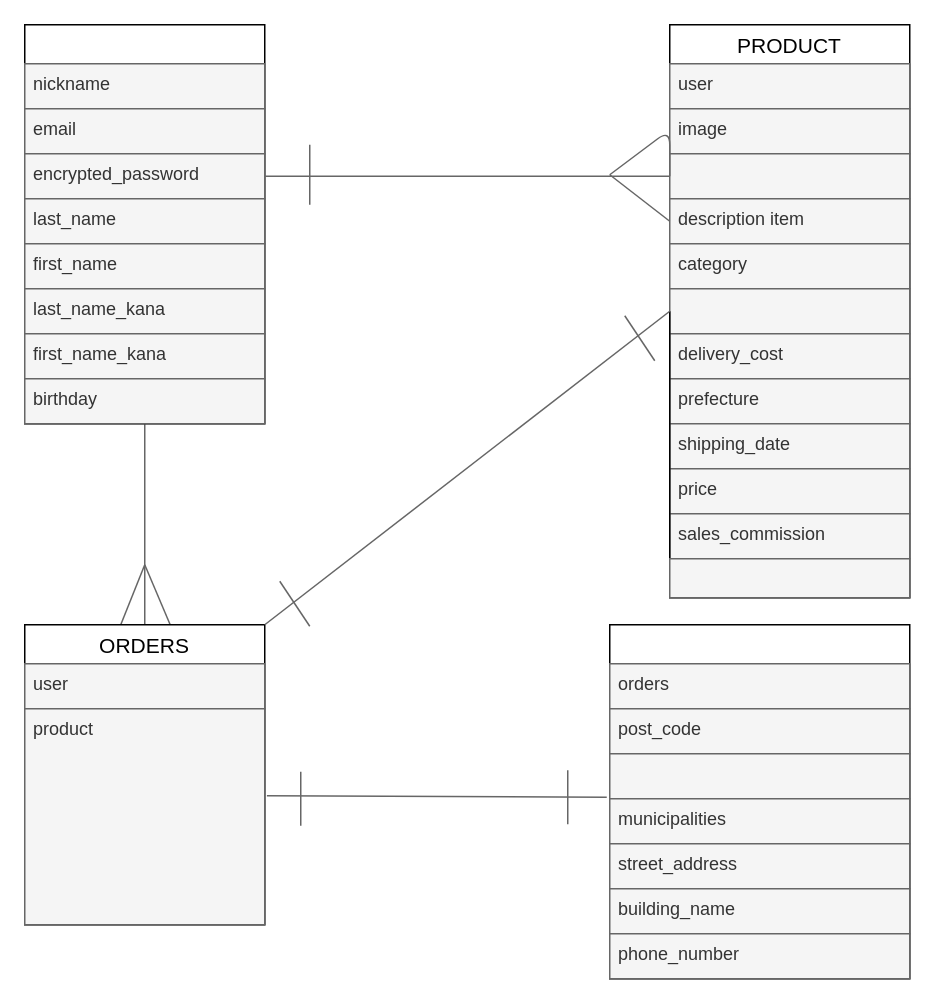
Some shapes in this 935 by 1004 pixel diagram are drawn without their labels. Here are the shapes that lost their labels. From the top down, the box of each, then its label:
(668, 152, 910, 199): name
(23, 23, 265, 424): USERS
(668, 287, 910, 334): condition
(668, 557, 910, 598): sales_profit
(608, 752, 910, 799): prefectures
(608, 623, 910, 979): SHIPPING INFORMATION
